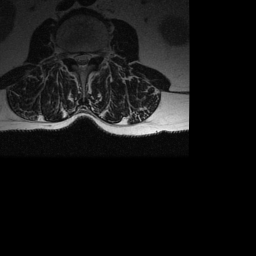CCS_normal: (80, 46, 85, 74)
LFS_normal: (91, 45, 98, 63)
LLS_normal: (85, 47, 91, 66)
RFS_stenosis: (67, 45, 73, 64)
RLS_normal: (74, 47, 80, 66)
